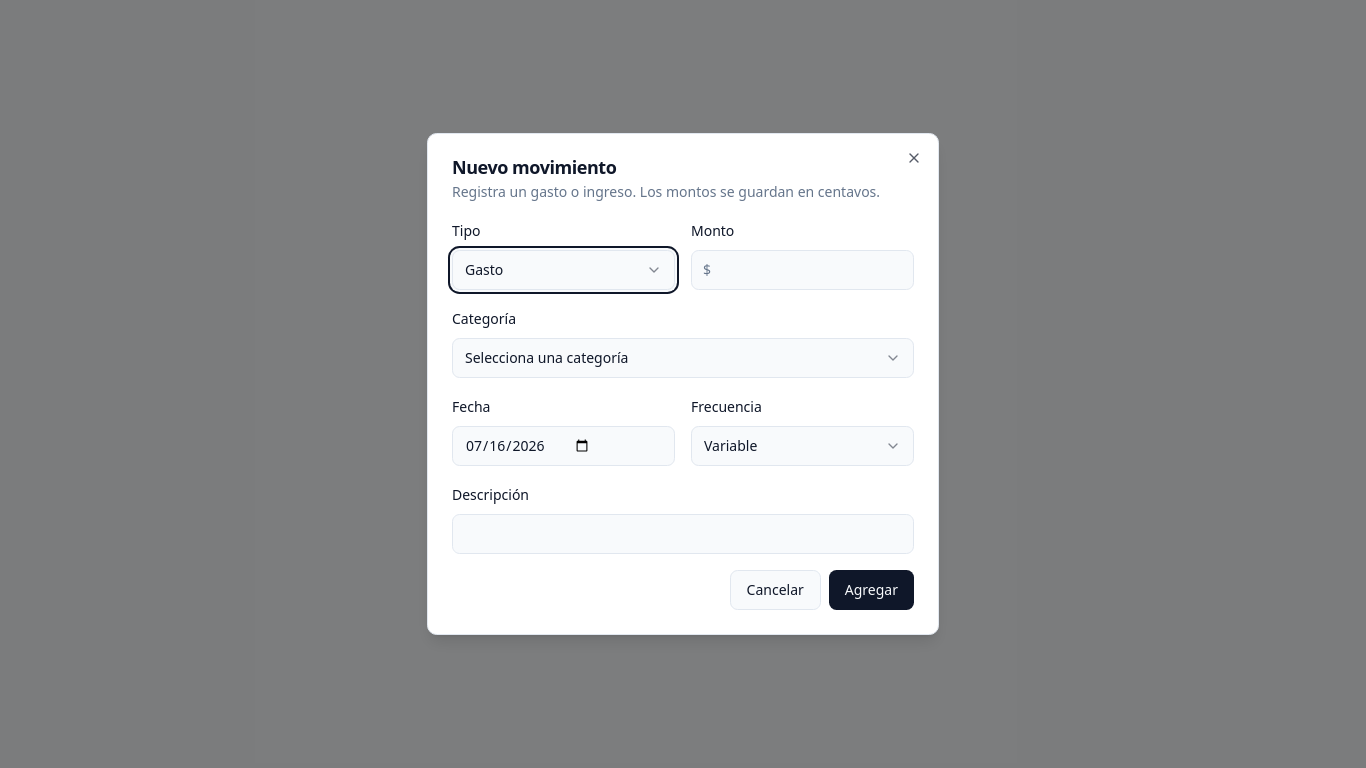
Test: EntryForm validation › blocks submit and shows errors when required fields are empty
Click the button "Agregar" at point(871, 590), box [829, 570, 914, 610]
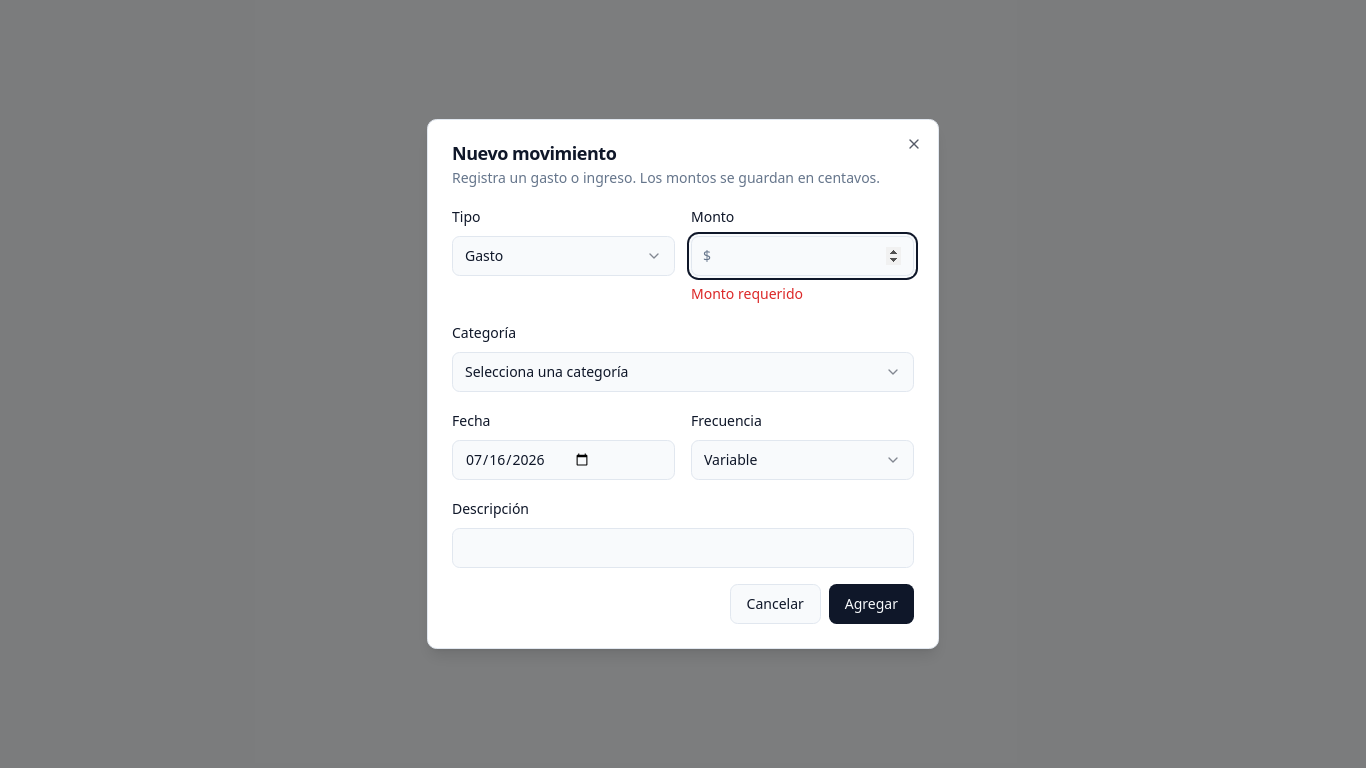
Expected: the text "Monto requerido" is shown, [691, 284, 803, 303]
